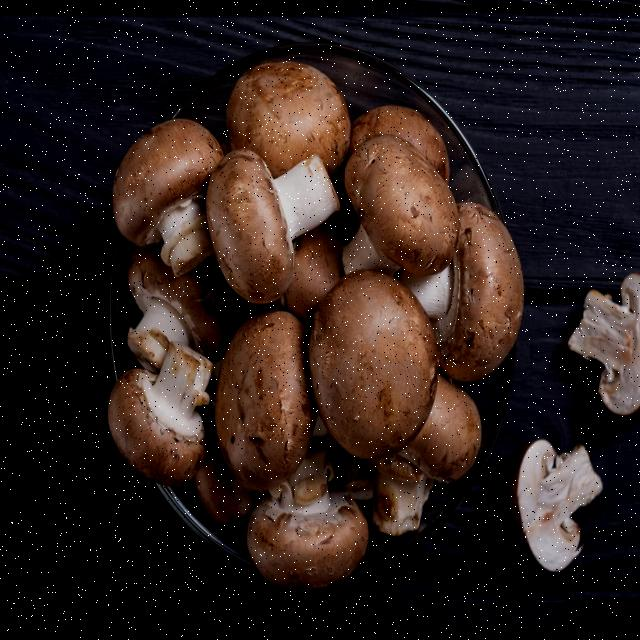Mushroom: (346, 120, 495, 520), (460, 446, 628, 621), (213, 34, 363, 212), (233, 469, 424, 595), (558, 208, 640, 426), (101, 348, 225, 487), (139, 97, 201, 282)
